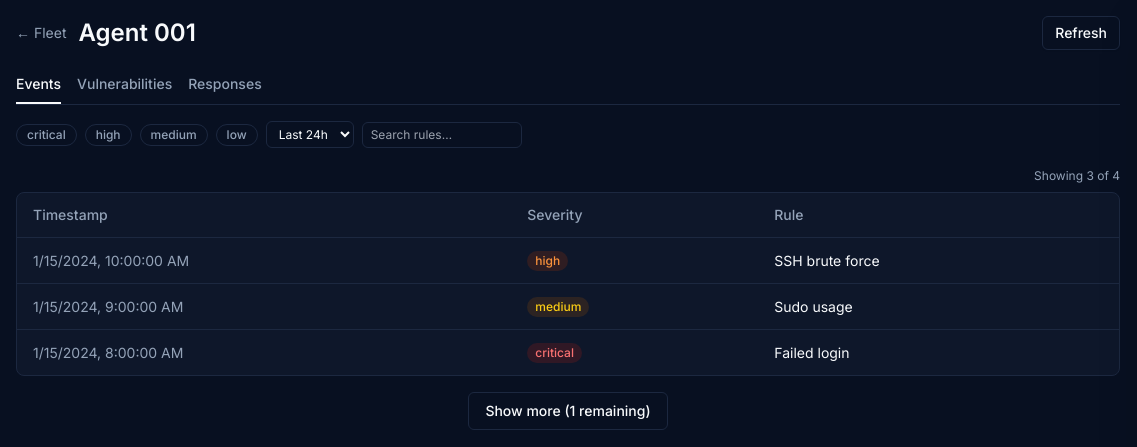
Scenario: AgentDetail — events tab › clicking Show more appends results without clearing existing ones
Expected: the text "SSH brute force" is shown, [758,238,1119,284]
Click the button "Show more (1 remaining)" at (568, 411), box [468,392,668,430]
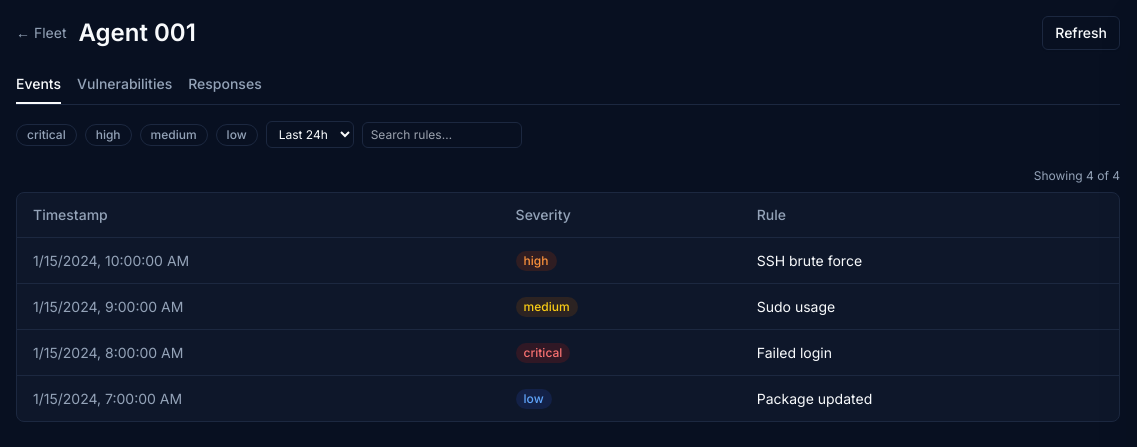
Expected: the text "SSH brute force" is shown, [741,238,1119,284]
Now the text "Package updated" is shown, box [741,376,1119,421]
Now the button "Show more" is gone
